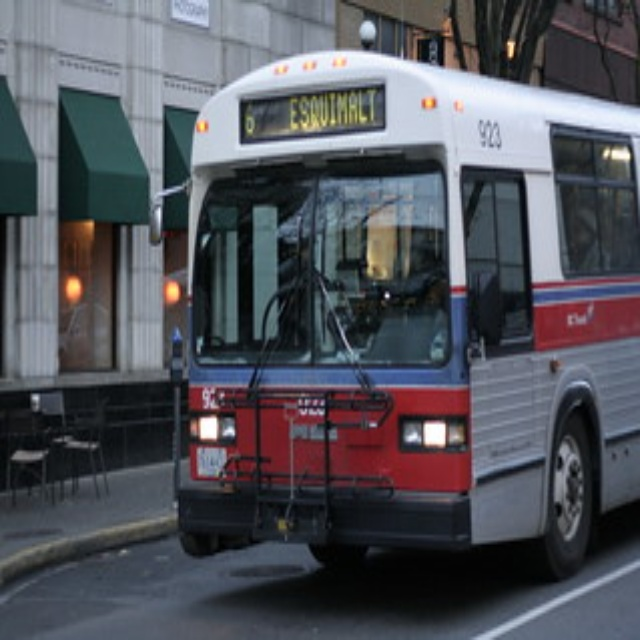Bus: (177, 48, 640, 583)
